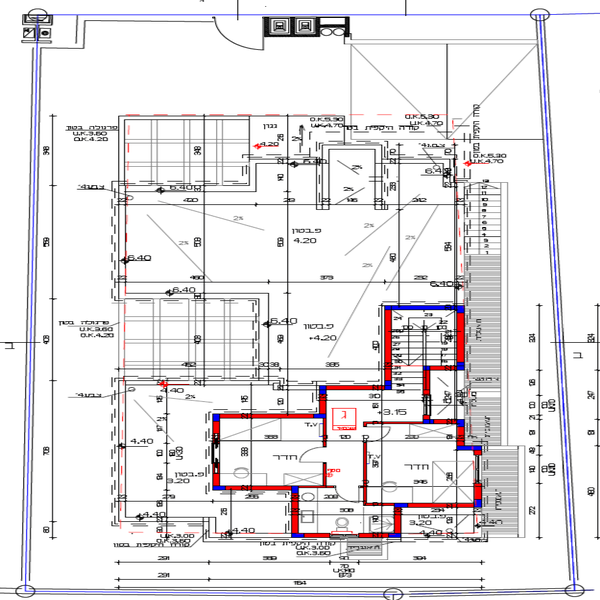door: (297, 444, 327, 466), (331, 486, 363, 506), (369, 424, 395, 445)
room: (357, 424, 487, 514), (212, 411, 328, 487), (291, 485, 406, 541), (386, 301, 465, 372)
wall: (214, 414, 322, 423), (382, 304, 392, 378), (388, 302, 467, 311), (361, 438, 371, 503), (290, 491, 304, 537), (457, 308, 467, 368), (400, 503, 483, 510), (322, 384, 390, 392), (227, 485, 296, 492), (210, 462, 221, 489), (394, 504, 403, 535), (319, 384, 327, 412), (458, 418, 465, 444)
